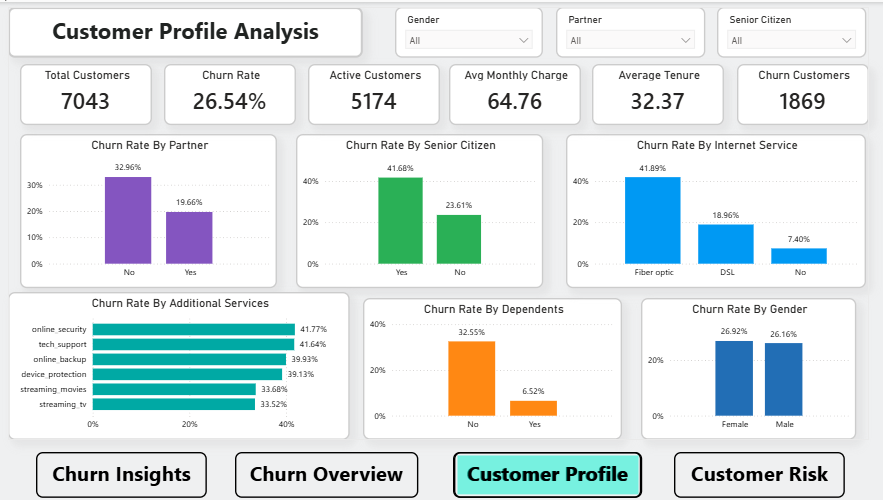

Layout of this report page (visuals, bound fields, positions):
{"tool":"powerbi","page":{"name":"Page 2","canvas":[1280,720],"ordinal":1},"visuals":[{"type":"columnChart","title":"Churn Rate By Senior Citizen","fields":{"Category":["dim_customer.senior_citizen"],"Y":["fact_customer_metrics.Churn rate"]},"box":[430.9,189.9,357.2,243.8],"z":0},{"type":"columnChart","title":"Churn Rate By Partner","fields":{"Category":["dim_customer.partner"],"Y":["fact_customer_metrics.Churn rate"]},"box":[32.6,189.9,358.6,243.8],"z":1000},{"type":"columnChart","title":"Churn Rate By Dependents","fields":{"Category":["dim_customer.dependents"],"Y":["fact_customer_metrics.Churn rate"]},"box":[514.5,443.6,388.3,262.2],"z":2000},{"type":"columnChart","title":"Churn  Rate By Internet Service","fields":{"Category":["dim_services.internet_service"],"Y":["fact_customer_metrics.Churn rate"]},"box":[819.2,189.9,436.5,243.8],"z":3000},{"type":"clusteredBarChart","title":"Churn Rate By Additional Services","fields":{"Category":["dim_services_analysis.Services"],"Y":["fact_customer_metrics.Churn rate"]},"box":[32.6,443.6,470.6,262.2],"z":4000},{"type":"textbox","box":[15.6,7.1,527.2,73.7],"z":5000},{"type":"cardVisual","title":"Total Customers","fields":{"Data":["fact_customer_metrics.Total_customer"]},"box":[32.6,89.3,189.9,87.9],"z":6000},{"type":"cardVisual","title":"Churn Rate","fields":{"Data":["fact_customer_metrics.Churn rate"]},"box":[240.9,89.3,189.9,87.9],"z":7000},{"type":"cardVisual","title":"Churn Customers","fields":{"Data":["fact_customer_metrics.Churn Customers"]},"box":[1065.8,89.3,189.9,87.9],"z":8000},{"type":"cardVisual","title":"Active Customers","fields":{"Data":["fact_customer_metrics.Active Customers"]},"box":[447.9,89.3,189.9,87.9],"z":9000},{"type":"cardVisual","title":"Average Tenure","fields":{"Data":["fact_customer_metrics.Average Tenure"]},"box":[857.5,89.3,189.9,87.9],"z":10000},{"type":"cardVisual","title":"Avg Monthly Charge","fields":{"Data":["fact_customer_metrics.Average Monthly Charge"]},"box":[650.6,89.3,189.9,87.9],"z":11000},{"type":"columnChart","title":"Churn Rate By Gender","fields":{"Category":["dim_customer.gender"],"Y":["fact_customer_metrics.Churn rate"]},"box":[924.1,443.6,331.7,262.2],"z":12000},{"type":"slicer","fields":{"Values":["dim_customer.gender"]},"box":[572.6,7.1,214,73.7],"z":13000},{"type":"slicer","fields":{"Values":["dim_customer.partner"]},"box":[805,7.1,214,73.7],"z":14000},{"type":"slicer","fields":{"Values":["dim_customer.senior_citizen"]},"box":[1037.5,7.1,214,73.7],"z":15000}]}

Visuals, with their boxes in screenshot pixels (x1, y1, x2, y2), scaled from the page's 1280x720 canvas onto the 883x500 screenshot:
"Churn Rate By Senior Citizen" columnChart: left=297, top=132, right=544, bottom=301
"Churn Rate By Partner" columnChart: left=22, top=132, right=270, bottom=301
"Churn Rate By Dependents" columnChart: left=355, top=308, right=623, bottom=490
"Churn  Rate By Internet Service" columnChart: left=565, top=132, right=866, bottom=301
"Churn Rate By Additional Services" clusteredBarChart: left=22, top=308, right=347, bottom=490
textbox: left=11, top=5, right=374, bottom=56
"Total Customers" cardVisual: left=22, top=62, right=153, bottom=123
"Churn Rate" cardVisual: left=166, top=62, right=297, bottom=123
"Churn Customers" cardVisual: left=735, top=62, right=866, bottom=123
"Active Customers" cardVisual: left=309, top=62, right=440, bottom=123
"Average Tenure" cardVisual: left=592, top=62, right=723, bottom=123
"Avg Monthly Charge" cardVisual: left=449, top=62, right=580, bottom=123
"Churn Rate By Gender" columnChart: left=637, top=308, right=866, bottom=490
slicer - dim_customer.gender: left=395, top=5, right=543, bottom=56
slicer - dim_customer.partner: left=555, top=5, right=703, bottom=56
slicer - dim_customer.senior_citizen: left=716, top=5, right=863, bottom=56
